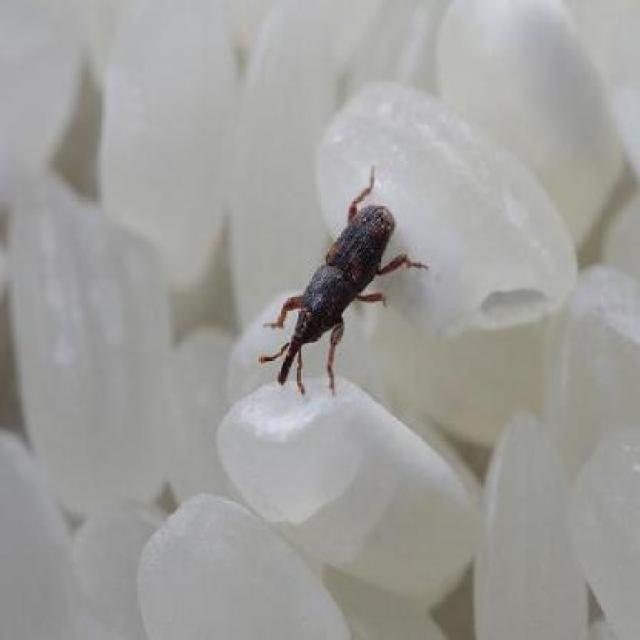rice-bug: (272, 182, 412, 395)
